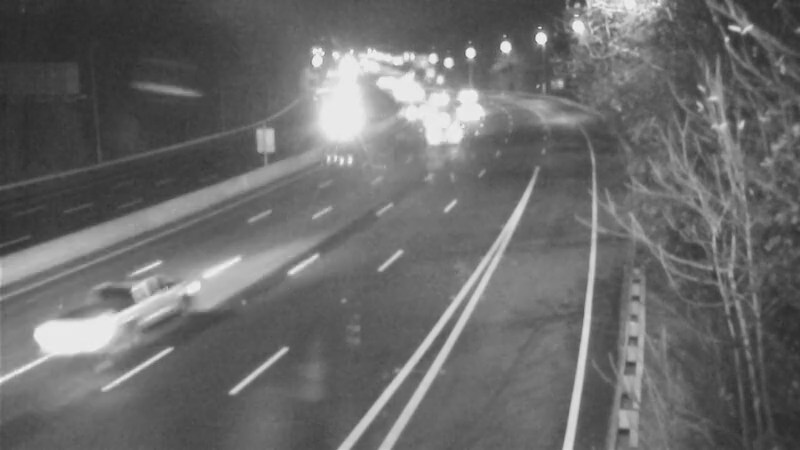vehicle: (15, 282, 125, 392), (441, 72, 491, 122), (407, 73, 457, 123), (443, 85, 493, 135), (388, 86, 438, 136), (418, 89, 468, 139), (418, 110, 468, 160)
